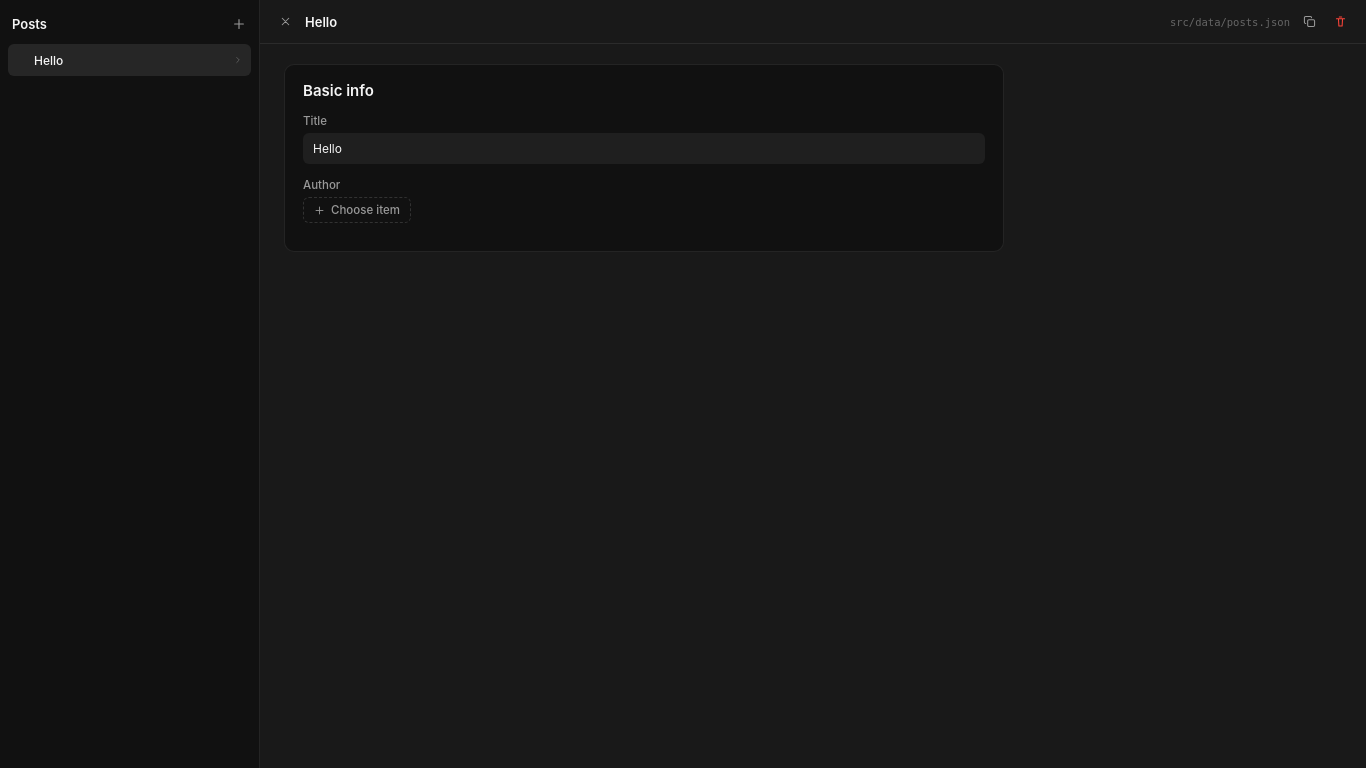
editing a reference value › picks an item, shows its title, and can clear it
Click the button "Choose item" at (357, 210), box [303,197,411,223]
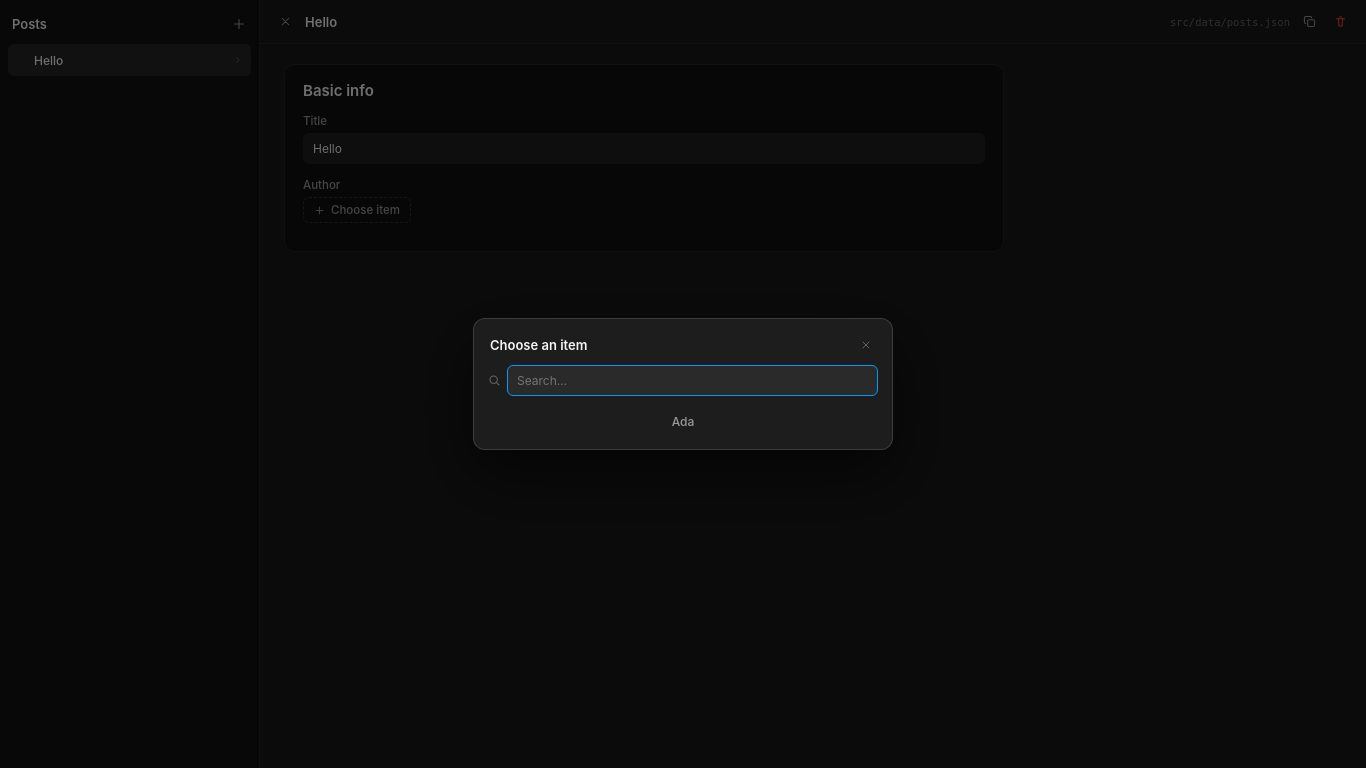
Click the button "Ada" at (683, 422), box [482,406,884,437]
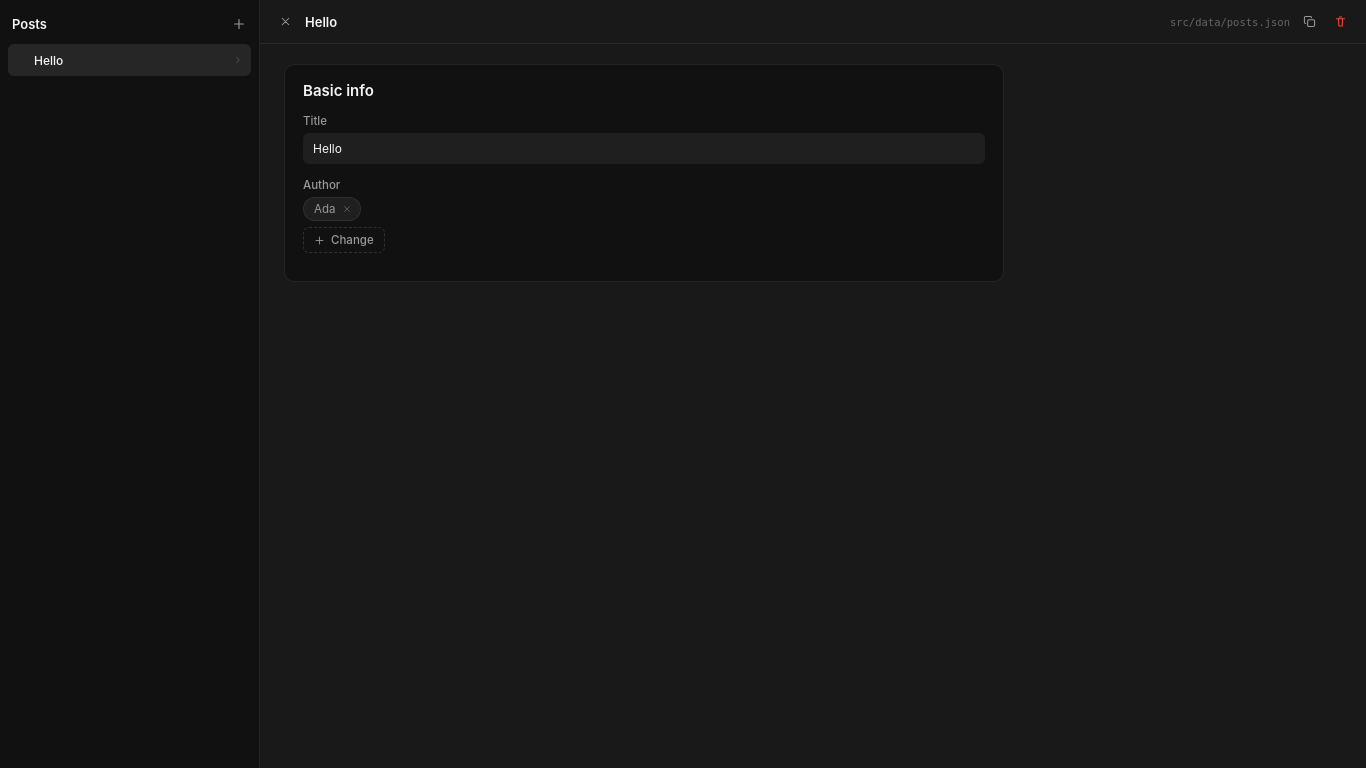
expect the text "Ada" is shown: met, box [303,197,361,221]
Click the button titled "Clear" at (347, 209), box [340,202,354,216]
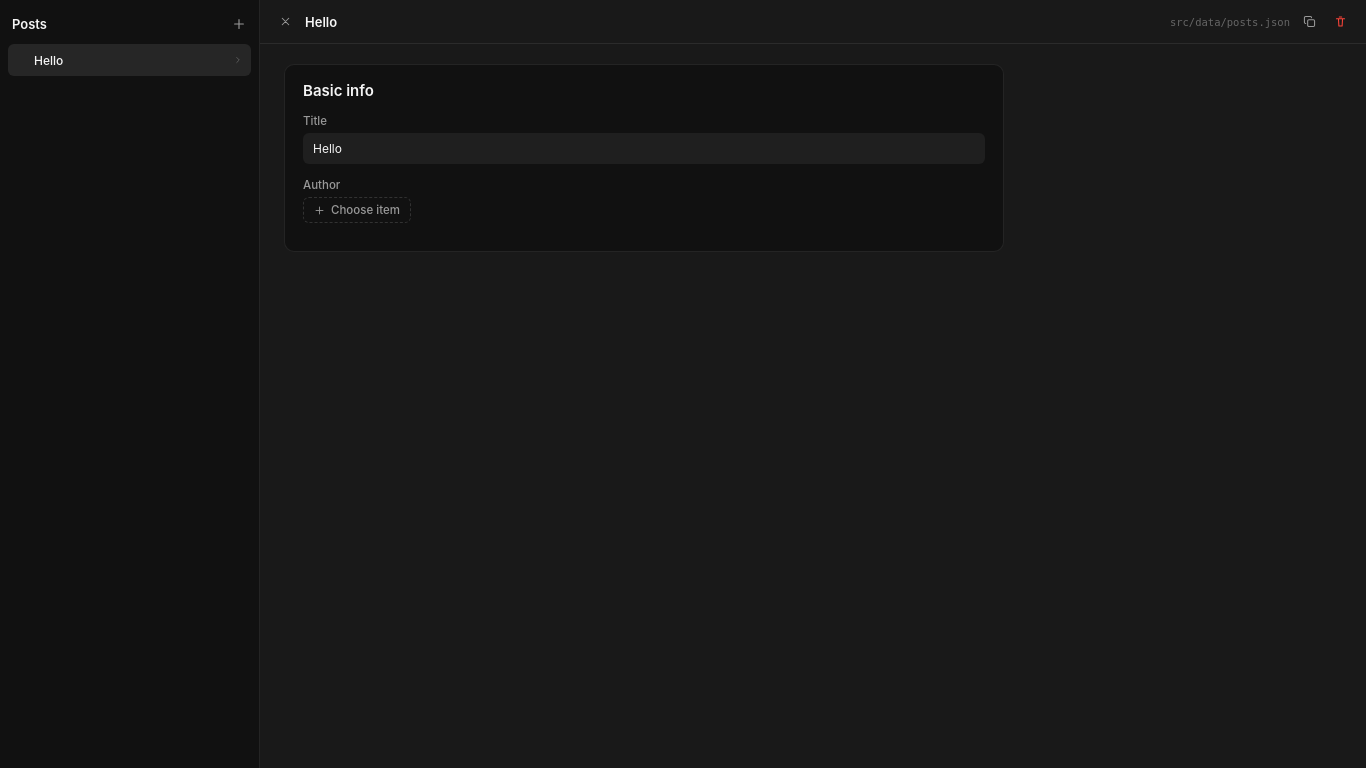
expect the text "Ada" is gone: met
